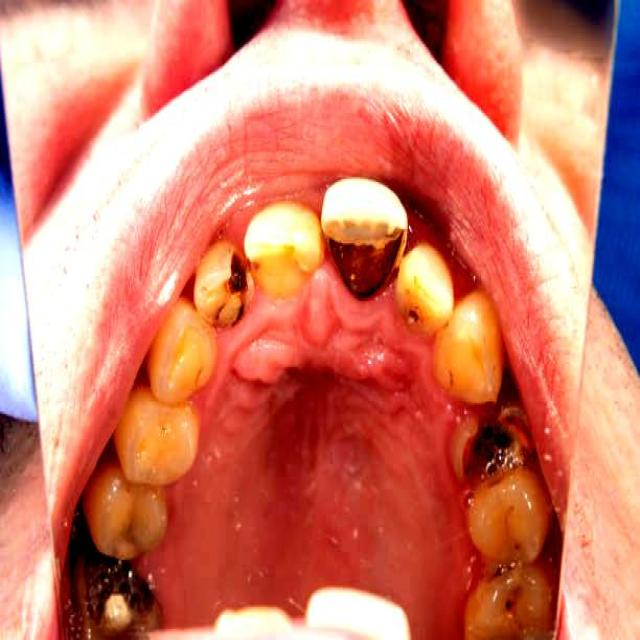caries: (447, 398, 538, 495), (81, 549, 168, 640), (324, 203, 404, 299), (196, 246, 256, 334), (479, 546, 532, 633), (400, 284, 429, 338)
